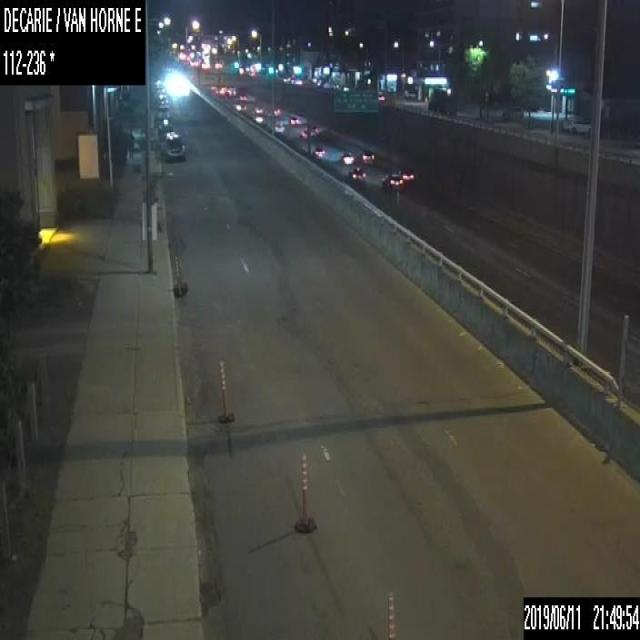construction: (293, 449, 315, 534), (217, 358, 233, 422), (173, 248, 186, 296), (386, 586, 396, 638)
pedestrian: (127, 128, 133, 159)
vehicle: (163, 131, 184, 161), (382, 168, 404, 192), (158, 119, 172, 152), (564, 117, 590, 134), (348, 164, 366, 184), (500, 106, 522, 118), (397, 166, 413, 182), (357, 150, 375, 164), (340, 148, 354, 164), (310, 147, 325, 160), (268, 122, 284, 134), (157, 94, 169, 110), (232, 101, 245, 112), (252, 114, 264, 125), (268, 107, 280, 116), (289, 115, 297, 126), (254, 105, 262, 113), (239, 92, 246, 100)
